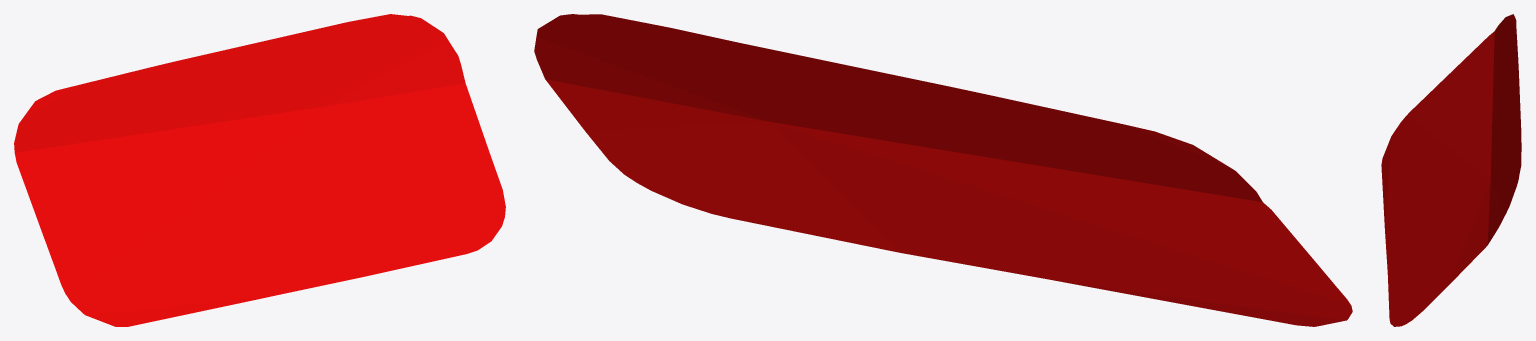
Rendered from rafale_highlight_03.fbx.
The picture shows the model from 3 angles, left to right: view 1: azimuth 30°, elevation 25°; view 2: azimuth 150°, elevation 25°; view 3: azimuth 270°, elevation 25°; orthographic projection. The views are drawn at different scales.
Parts seen in each view (by area): view 1: rafale_highlight_03; view 2: rafale_highlight_03; view 3: rafale_highlight_03.
Part boxes in pixels (x1,y1,x2,y2): rafale_highlight_03: (14,14,505,326); rafale_highlight_03: (534,14,1352,326); rafale_highlight_03: (1381,14,1521,326).
Size of the model in its own units: 15.69 by 6.35 by 5.01.
